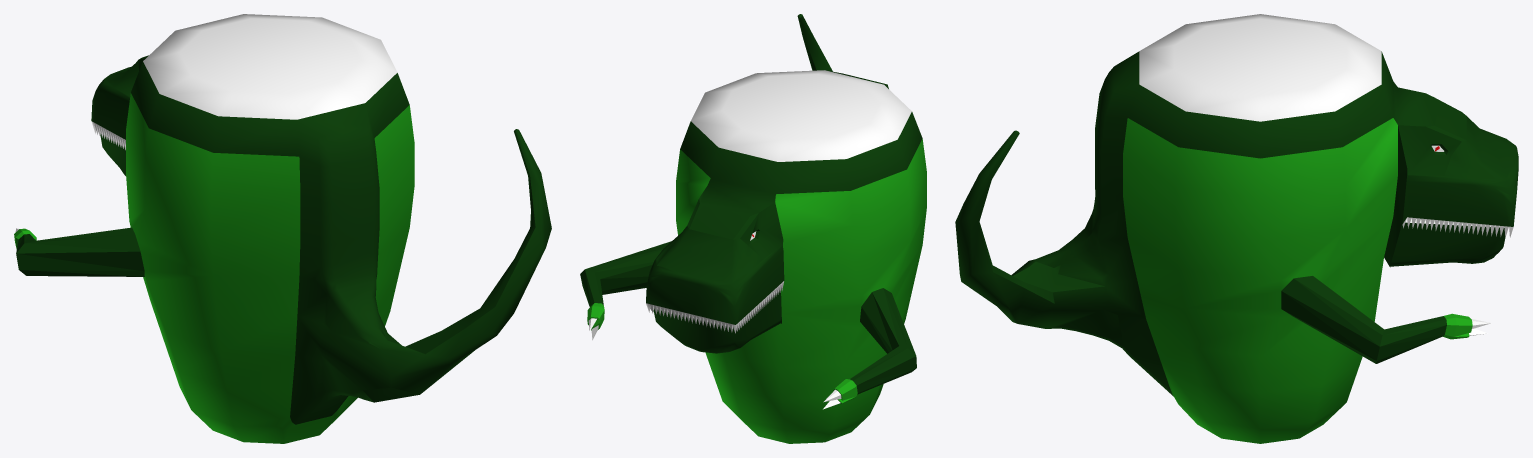
File: carneDino.fbx
3 renders of one model, left to right at view 1: azimuth 30°, elevation 25°; view 2: azimuth 150°, elevation 25°; view 3: azimuth 270°, elevation 25°, orthographic. The views are drawn at different scales.
Visible parts, largest first — view 1: Cylinder002; view 2: Cylinder002; view 3: Cylinder002.
Boxes of the visible parts, <box> form: Cylinder002: <box>14,14,551,443</box>; Cylinder002: <box>580,14,926,443</box>; Cylinder002: <box>955,14,1518,443</box>.
Size of the model in its own units: 0.9578 by 0.85 by 1.21.
